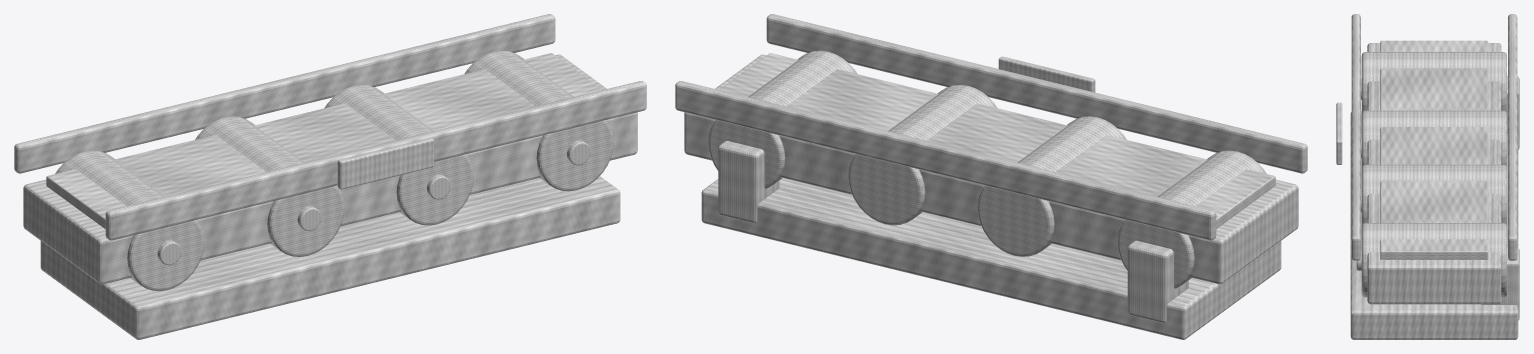
The model's file is conveyor_belt_variant_b.glb.
3 renders of one model, left to right at view 1: azimuth 30°, elevation 25°; view 2: azimuth 150°, elevation 25°; view 3: azimuth 270°, elevation 25°, orthographic. The views are drawn at different scales.
Parts seen in each view (by area): view 1: Foundation.001, Moving belt.001, Side guard.003, Belt frame.002, Side guard.002, Roller.007, Roller.004, Roller.005, Roller.006, Asset ID plate.002, Roller axle cap.006, Roller axle cap.005 (+2 smaller); view 2: Foundation.001, Moving belt.001, Side guard.003, Side guard.002, Belt frame.002, Roller.005, Roller.006, Roller.007, Roller.004, Service foot.002, Service foot.003, Asset ID plate.002; view 3: Moving belt.001, Belt frame.002, Foundation.001, Roller.007, Roller.006, Roller.004, Roller.005, Side guard.002, Side guard.003, Service foot.003, Asset ID plate.002, Service foot.002.
Boxes of the visible parts, x1=… form: Foundation.001: x1=40, y1=176, x2=620, y2=339; Moving belt.001: x1=46, y1=53, x2=601, y2=228; Side guard.003: x1=14, y1=14, x2=555, y2=173; Belt frame.002: x1=23, y1=54, x2=637, y2=284; Side guard.002: x1=105, y1=81, x2=646, y2=240; Roller.007: x1=464, y1=50, x2=613, y2=191; Roller.004: x1=55, y1=150, x2=204, y2=291; Roller.005: x1=195, y1=116, x2=344, y2=256; Roller.006: x1=324, y1=85, x2=473, y2=225; Asset ID plate.002: x1=337, y1=137, x2=434, y2=189; Roller axle cap.006: x1=427, y1=174, x2=450, y2=199; Roller axle cap.005: x1=297, y1=206, x2=321, y2=230; Foundation.001: x1=701, y1=178, x2=1281, y2=339; Moving belt.001: x1=720, y1=53, x2=1275, y2=228; Side guard.003: x1=675, y1=81, x2=1216, y2=240; Side guard.002: x1=766, y1=14, x2=1307, y2=173; Belt frame.002: x1=684, y1=54, x2=1298, y2=284; Roller.005: x1=977, y1=116, x2=1126, y2=256; Roller.006: x1=848, y1=85, x2=997, y2=225; Roller.007: x1=708, y1=50, x2=857, y2=188; Roller.004: x1=1117, y1=150, x2=1266, y2=288; Service foot.002: x1=1127, y1=240, x2=1188, y2=323; Service foot.003: x1=718, y1=141, x2=779, y2=223; Asset ID plate.002: x1=998, y1=56, x2=1095, y2=92; Moving belt.001: x1=1380, y1=40, x2=1488, y2=259; Belt frame.002: x1=1367, y1=43, x2=1501, y2=304; Foundation.001: x1=1350, y1=111, x2=1518, y2=339; Roller.007: x1=1361, y1=223, x2=1506, y2=297; Roller.006: x1=1361, y1=164, x2=1506, y2=225; Roller.004: x1=1361, y1=52, x2=1506, y2=113; Roller.005: x1=1361, y1=110, x2=1506, y2=167; Side guard.002: x1=1351, y1=14, x2=1360, y2=260; Side guard.003: x1=1508, y1=14, x2=1517, y2=260; Service foot.003: x1=1481, y1=247, x2=1519, y2=320; Asset ID plate.002: x1=1336, y1=102, x2=1342, y2=164; Service foot.002: x1=1507, y1=76, x2=1519, y2=149.
Size of what is drawn, in the model's own units: 4 by 0.98 by 1.38.
5 materials, 5 textured.
